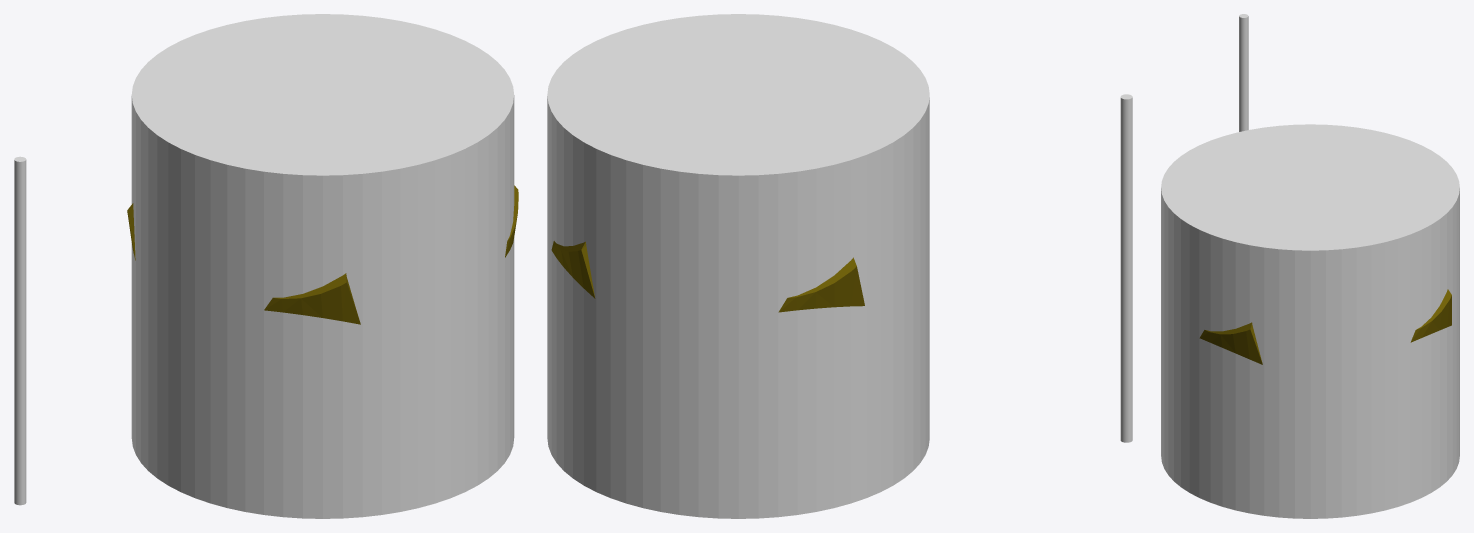
The model's file is frez.dae.
3 renders of one model, left to right at view 1: azimuth 30°, elevation 25°; view 2: azimuth 150°, elevation 25°; view 3: azimuth 270°, elevation 25°, orthographic. The views are drawn at different scales.
Visible parts, largest first — view 1: Cylinder_002, Cylinder_003, Cylinder; view 2: Cylinder_002, Cylinder_003, Cylinder; view 3: Cylinder_002, Cylinder, Cylinder_003.
Part boxes in pixels (x1,y1,x2,y2): Cylinder_002: (131, 14, 514, 518); Cylinder_003: (14, 156, 26, 505); Cylinder: (127, 185, 518, 324); Cylinder_002: (547, 14, 929, 518); Cylinder_003: (1120, 94, 1132, 442); Cylinder: (551, 241, 864, 312); Cylinder_002: (1161, 124, 1459, 518); Cylinder: (1199, 289, 1451, 364); Cylinder_003: (1239, 14, 1248, 131).
Bounding box in the file's own units: 4.96 × 3.18 × 3.62.
